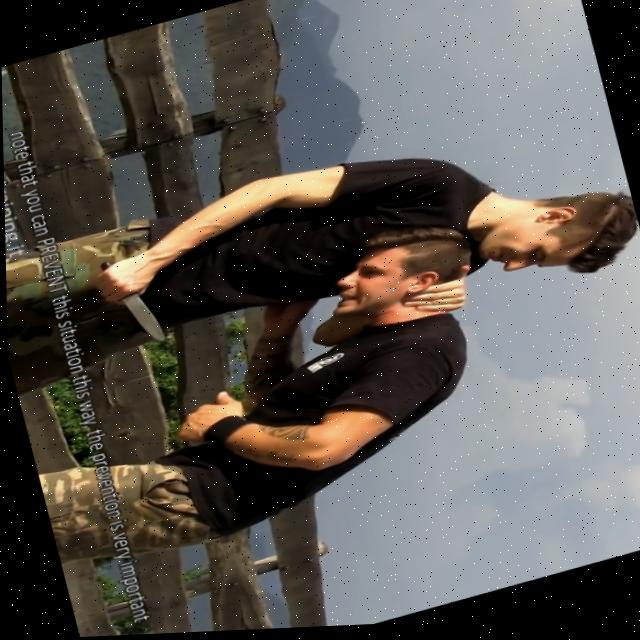knife: (113, 286, 166, 352)
